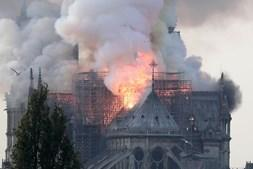fire: (120, 74, 143, 106)
smoke: (66, 0, 146, 52), (4, 5, 50, 67)
